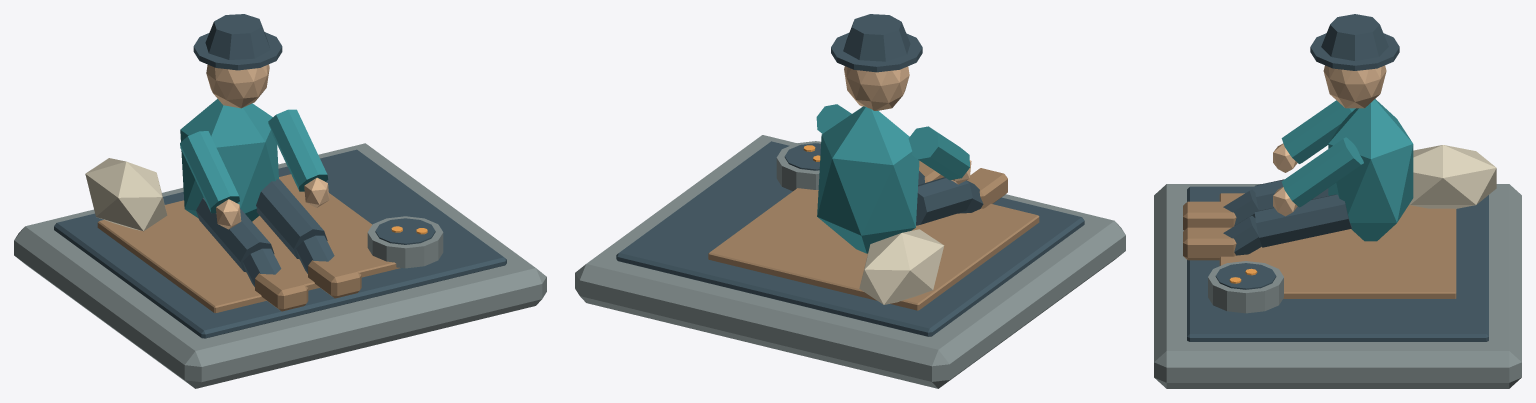
The model's file is beggar.glb.
3 views of the same model, side by side, from view 1: azimuth 30°, elevation 25°; view 2: azimuth 150°, elevation 25°; view 3: azimuth 270°, elevation 25° (orthographic). The views are drawn at different scales.
Visible parts, largest first — view 1: beggar; view 2: beggar; view 3: beggar.
Boxes of the visible parts, box(x1,y1,x2,y2) form: beggar: box(14, 14, 546, 388); beggar: box(575, 14, 1125, 388); beggar: box(1154, 14, 1521, 388).
Bounding box in the file's own units: 3.2 × 2.22 × 2.8.
